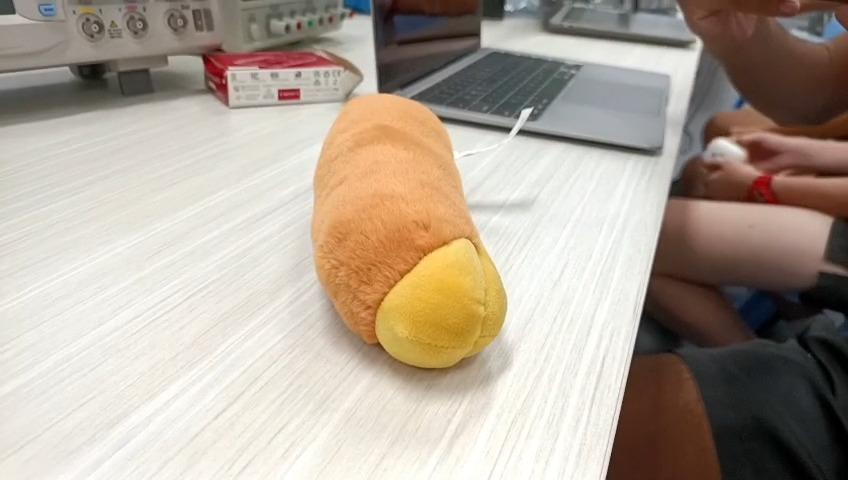hotdog: (311, 93, 508, 370)
